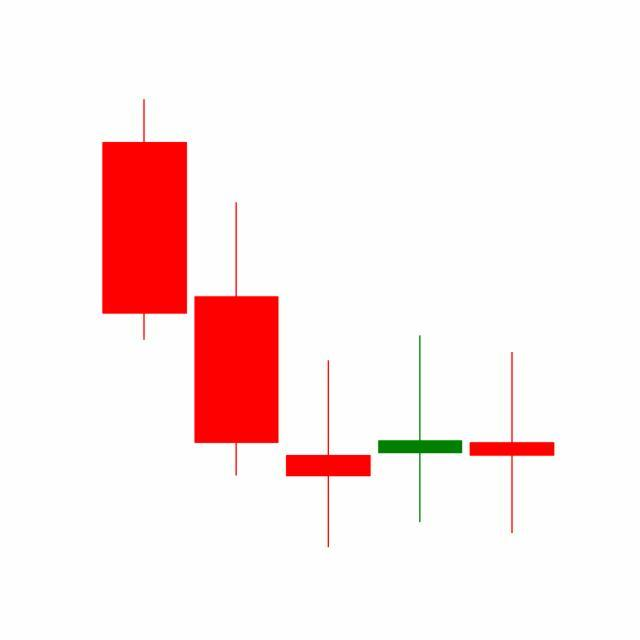Tristar Pattern: (280, 332, 555, 549)
